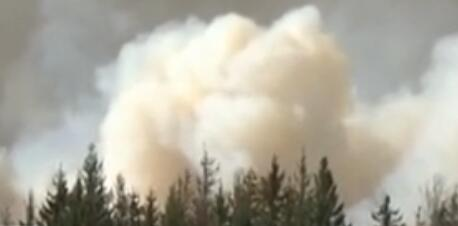smoke: (90, 3, 456, 212)
